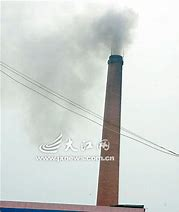smoke: (76, 8, 136, 54)
